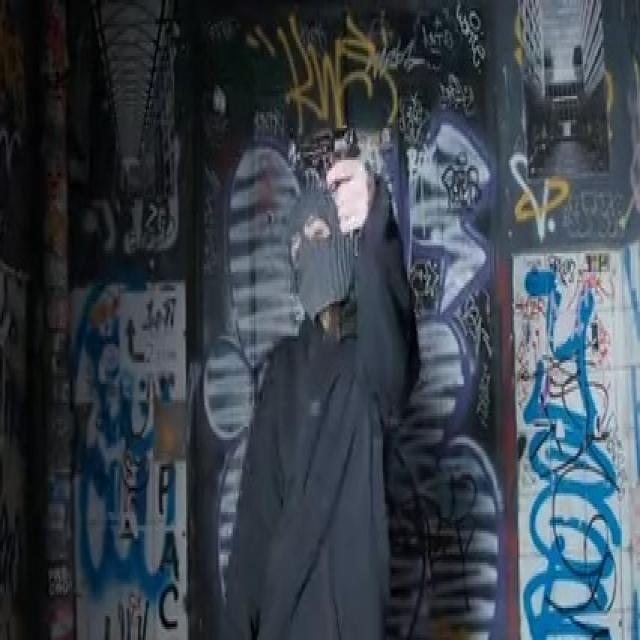Gun_Holder: (292, 115, 369, 199)
Person: (221, 191, 422, 640)
